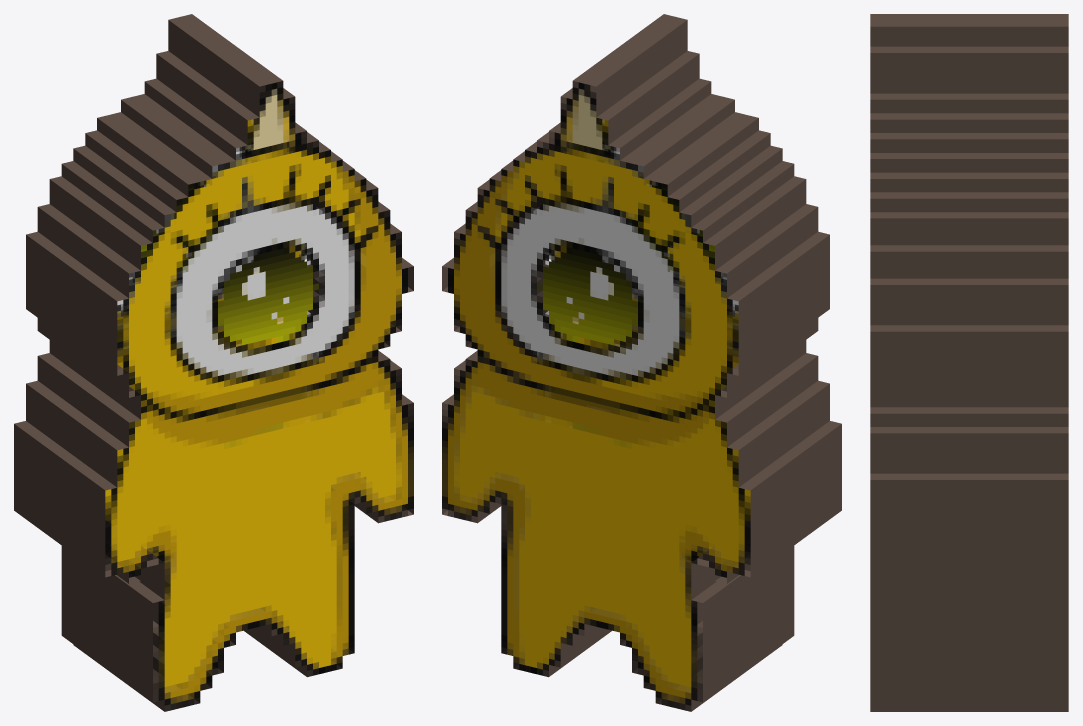
3 renders of one model, left to right at view 1: azimuth 30°, elevation 25°; view 2: azimuth 150°, elevation 25°; view 3: azimuth 270°, elevation 25°, orthographic. The views are drawn at different scales.
Visible parts, largest first — view 1: 9; view 2: 9; view 3: 9.
Boxes of the visible parts, bbox=[...] form: 9: bbox=[14, 14, 413, 711]; 9: bbox=[442, 14, 841, 711]; 9: bbox=[870, 14, 1068, 711].
Size of the model in its own units: 0.39 by 0.7275 by 0.2.
2 materials, 1 textured.
